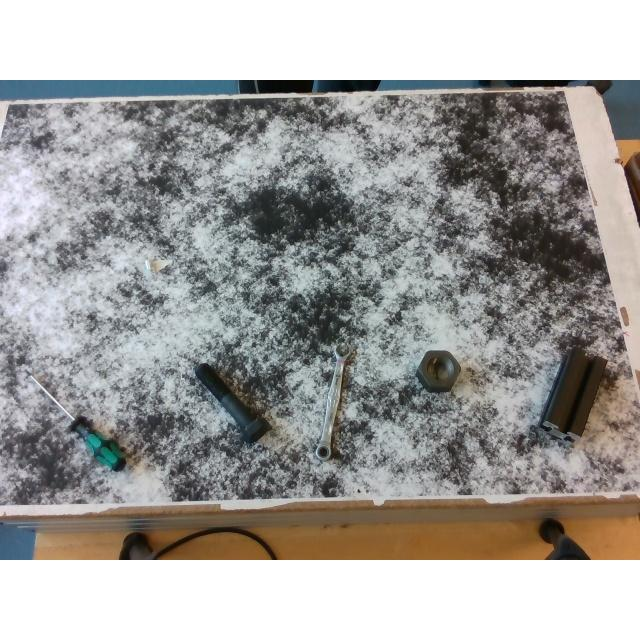M20_100: (194, 363, 270, 443)
M30: (416, 350, 459, 392)
S40_40_B: (538, 348, 606, 444)
Screwdriver: (25, 366, 125, 470)
Wrench: (314, 343, 354, 461)
